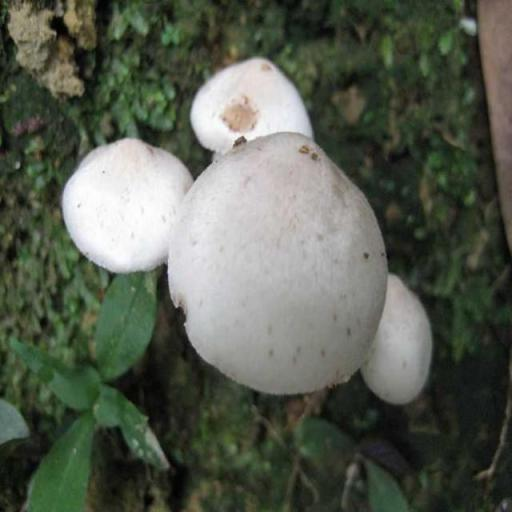mushroom: (166, 135, 387, 393), (64, 134, 194, 272), (190, 54, 324, 151)
